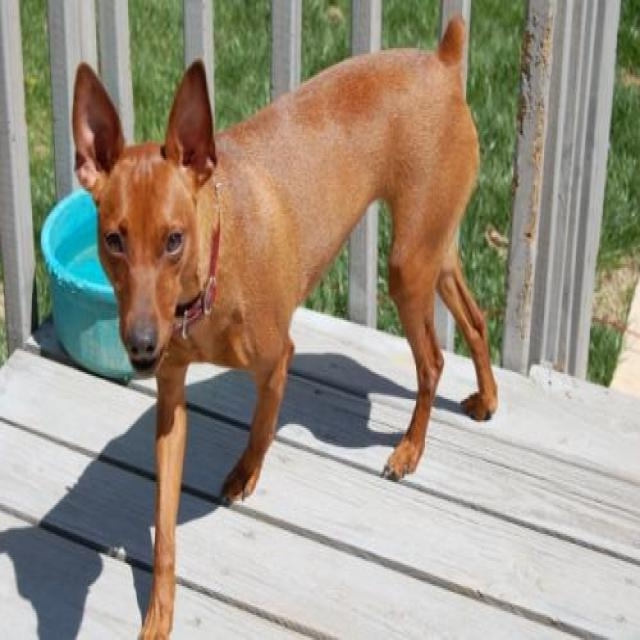Dogs: (69, 14, 498, 638)
